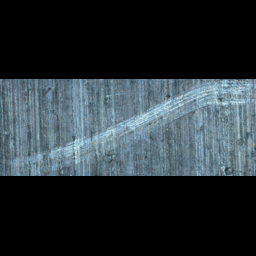d: (180, 79, 255, 107), (12, 143, 78, 171), (69, 126, 135, 153), (134, 102, 188, 128)
